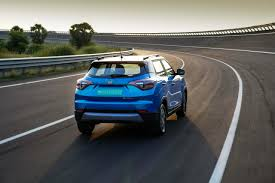XUV 400: (73, 52, 189, 137)
